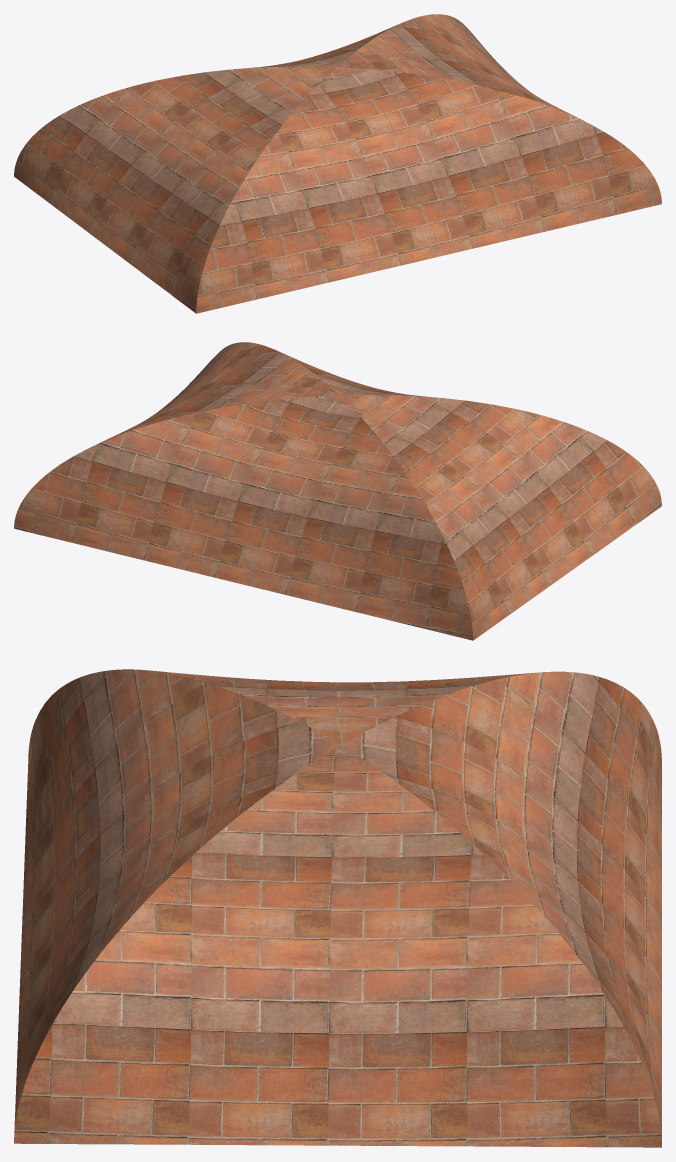
File: voltaIngresso.glb
3 views of the same model, one above another, from view 1: azimuth 30°, elevation 25°; view 2: azimuth 150°, elevation 25°; view 3: azimuth 270°, elevation 25° (orthographic). The views are drawn at different scales.
Visible parts, largest first — view 1: voltaIngresso; view 2: voltaIngresso; view 3: voltaIngresso.
Part boxes in pixels (left/top/right/bottom): voltaIngresso: left=14, top=14, right=661, bottom=313; voltaIngresso: left=14, top=342, right=661, bottom=640; voltaIngresso: left=14, top=669, right=661, bottom=1147.
Size of the model in its own units: 6.37 by 1.6 by 4.51.
1 material, 1 textured.
